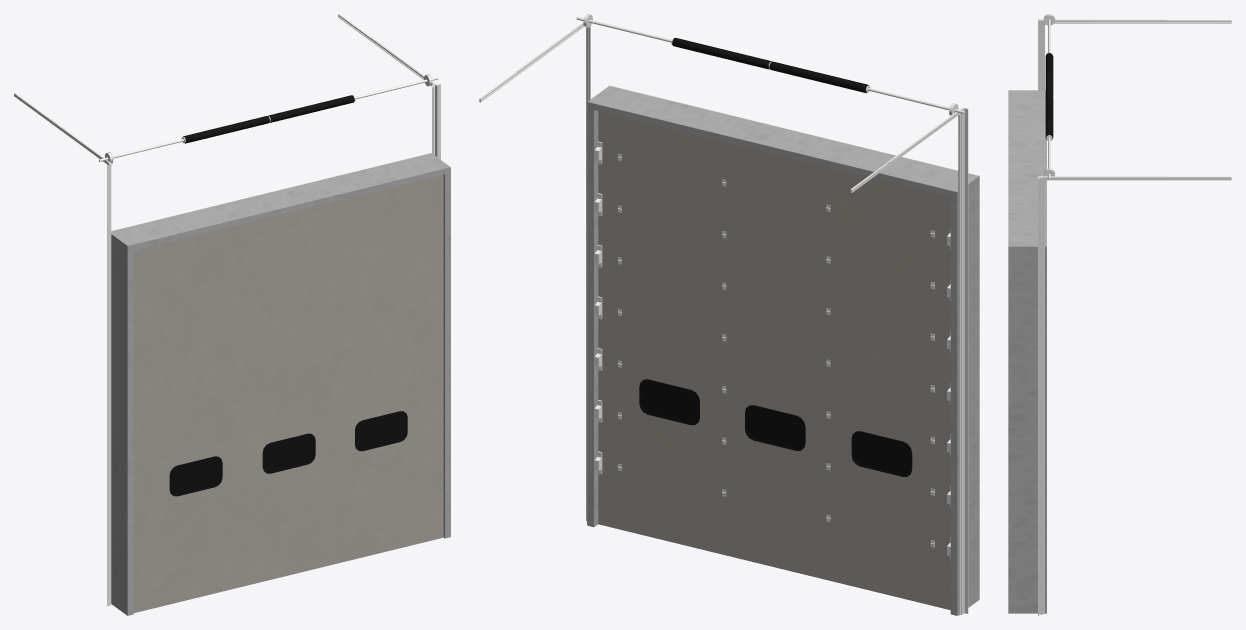
Rendered from SM06_Building_Door_01.fbx.
The picture shows the model from 3 angles, left to right: view 1: azimuth 30°, elevation 25°; view 2: azimuth 150°, elevation 25°; view 3: azimuth 270°, elevation 25°; orthographic projection. The views are drawn at different scales.
Parts seen in each view (by area): view 1: SM06_Building_Door_01; view 2: SM06_Building_Door_01; view 3: SM06_Building_Door_01.
Boxes of the visible parts, x1,y1,x2,y2 form: SM06_Building_Door_01: (14, 14, 450, 615); SM06_Building_Door_01: (479, 14, 979, 615); SM06_Building_Door_01: (1008, 14, 1231, 615).
Bounding box in the file's own units: 7.85 × 9.92 × 4.52.
